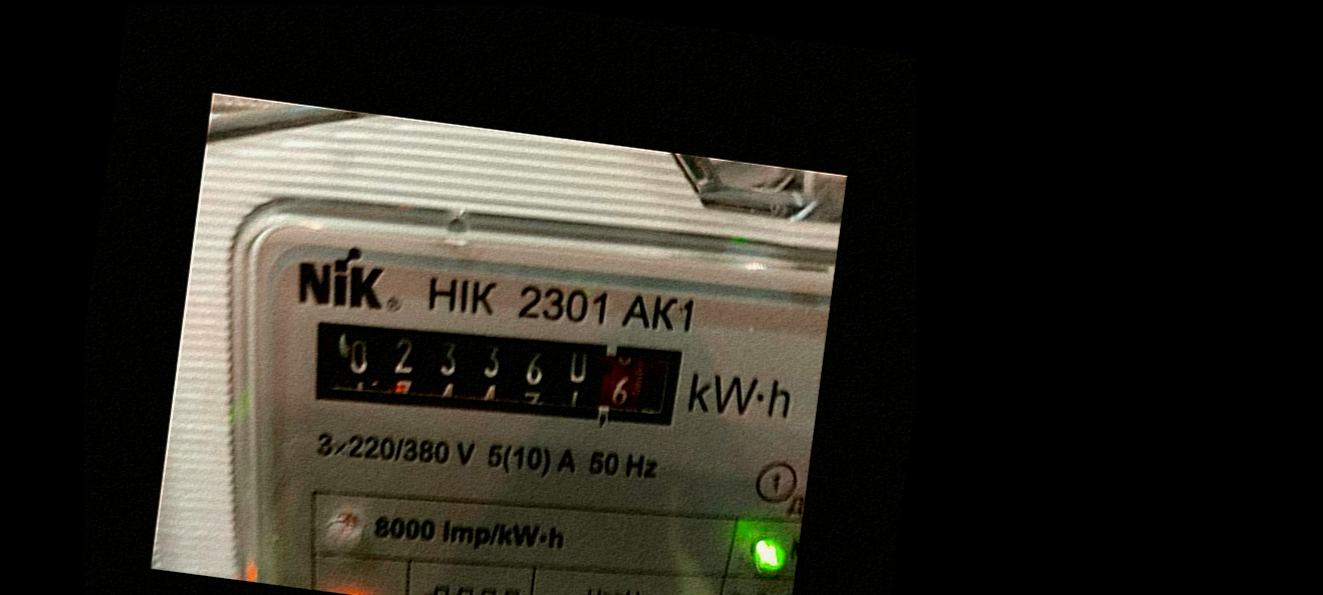0: (346, 334, 376, 379), (566, 348, 594, 387)
2: (390, 334, 421, 377)
3: (479, 341, 506, 382), (437, 338, 463, 380)
6: (521, 347, 552, 391), (611, 373, 636, 411)
screen: (287, 288, 700, 457)
